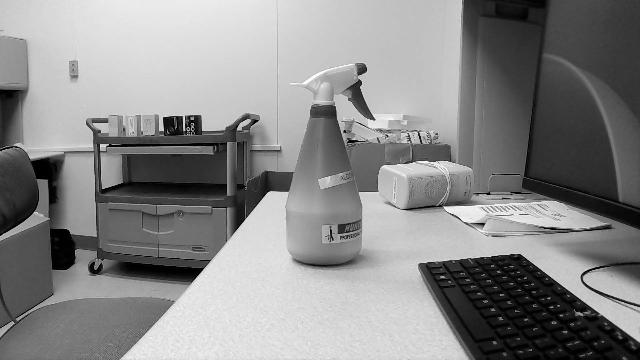AlcoholSpray: (284, 67, 363, 268)
